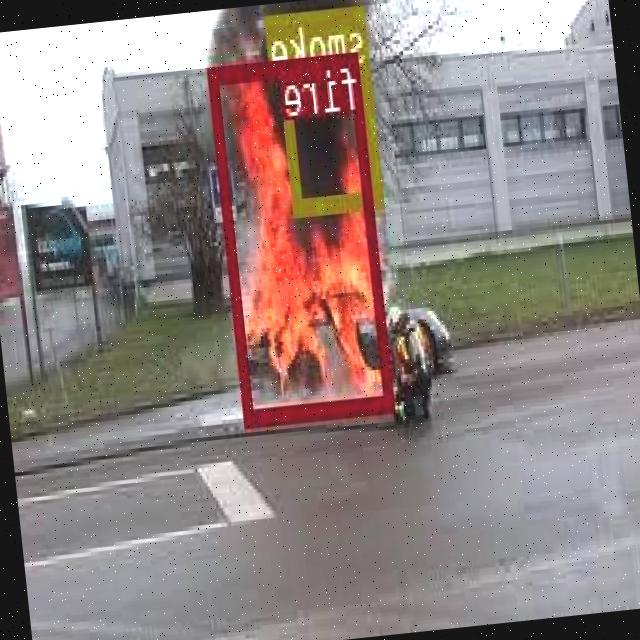fire: (210, 51, 396, 422)
smoke: (274, 3, 384, 211)
